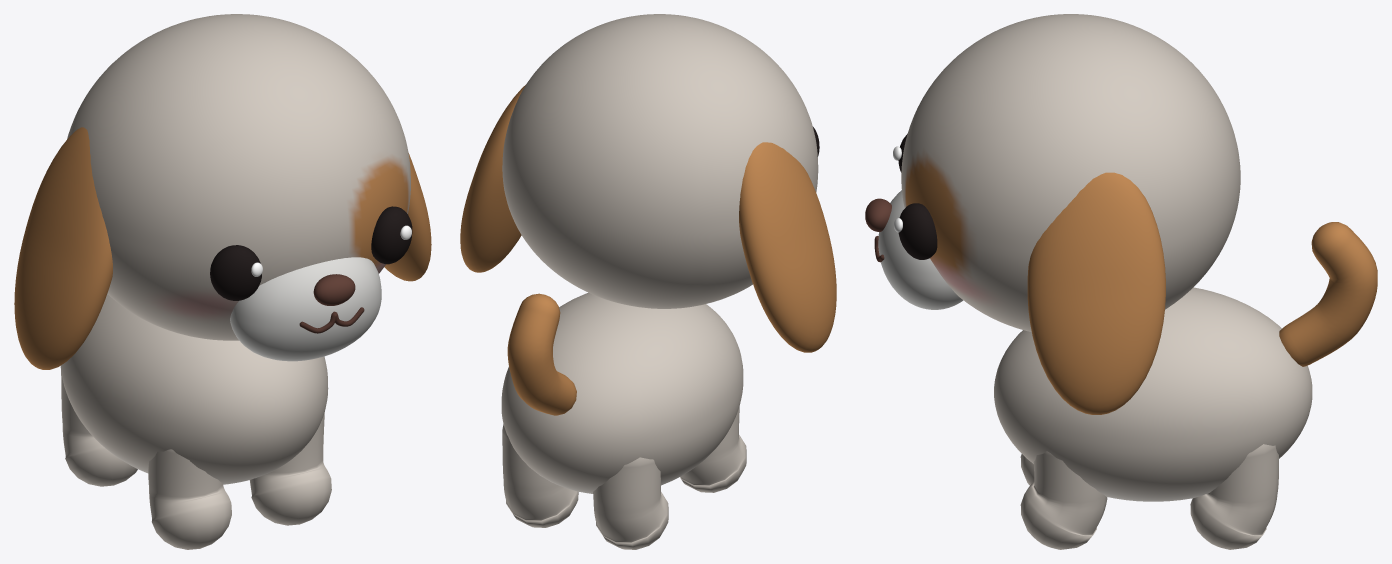
The model's file is dog.glb.
3 views of the same model, side by side, from view 1: azimuth 30°, elevation 25°; view 2: azimuth 150°, elevation 25°; view 3: azimuth 270°, elevation 25° (orthographic). The views are drawn at different scales.
Parts seen in each view (by area): view 1: head_mesh, body_mesh, ear_r, muzzle, leg1_mesh, leg0_mesh, leg3_mesh, ear_l, eye_-1, eye_1, nose; view 2: head_mesh, body_mesh, ear_r, ear_l, tail_mesh, leg3_mesh, leg2_mesh, leg1_mesh; view 3: head_mesh, body_mesh, ear_l, tail_mesh, leg2_mesh, leg0_mesh, muzzle, eye_1, nose.
Part boxes in pixels (x1,y1,x2,y2): head_mesh: (67,14,410,340); body_mesh: (60,294,328,484); ear_r: (14,127,112,369); muzzle: (230,257,381,361); leg1_mesh: (148,449,231,549); leg0_mesh: (249,413,331,525); leg3_mesh: (61,371,137,486); ear_l: (384,153,431,281); eye_-1: (210,245,261,300); eye_1: (371,206,412,264); nose: (313,274,355,305); head_mesh: (502,14,818,308); body_mesh: (501,292,743,493); ear_r: (739,142,836,352); ear_l: (460,85,525,272); tail_mesh: (507,293,576,415); leg3_mesh: (593,457,668,549); leg2_mesh: (502,424,578,527); leg1_mesh: (680,406,746,492); head_mesh: (901,14,1240,331); body_mesh: (994,287,1312,501); ear_l: (1027,172,1165,414); tail_mesh: (1279,222,1377,366); leg2_mesh: (1190,444,1278,549); leg0_mesh: (1020,451,1107,549); muzzle: (878,190,963,309); eye_1: (898,203,937,259); nose: (865,198,891,231).
Size of the model in its own units: 0.8667 by 1.05 by 0.997.
